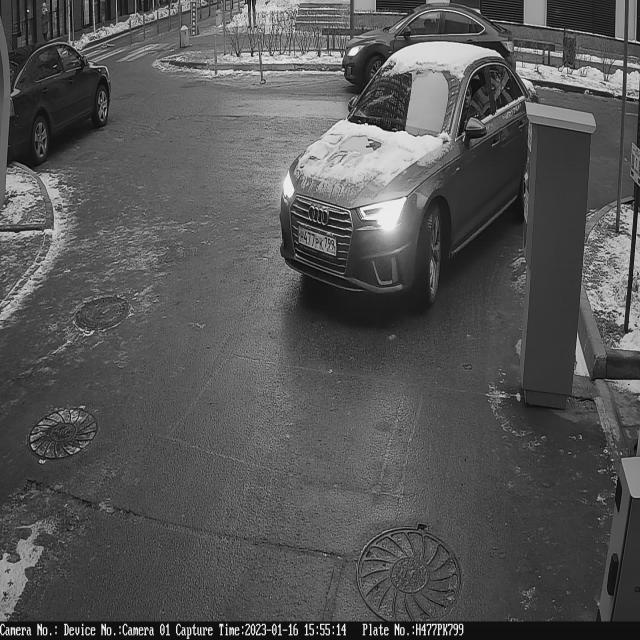car-plate-numbers: (298, 223, 340, 263)
